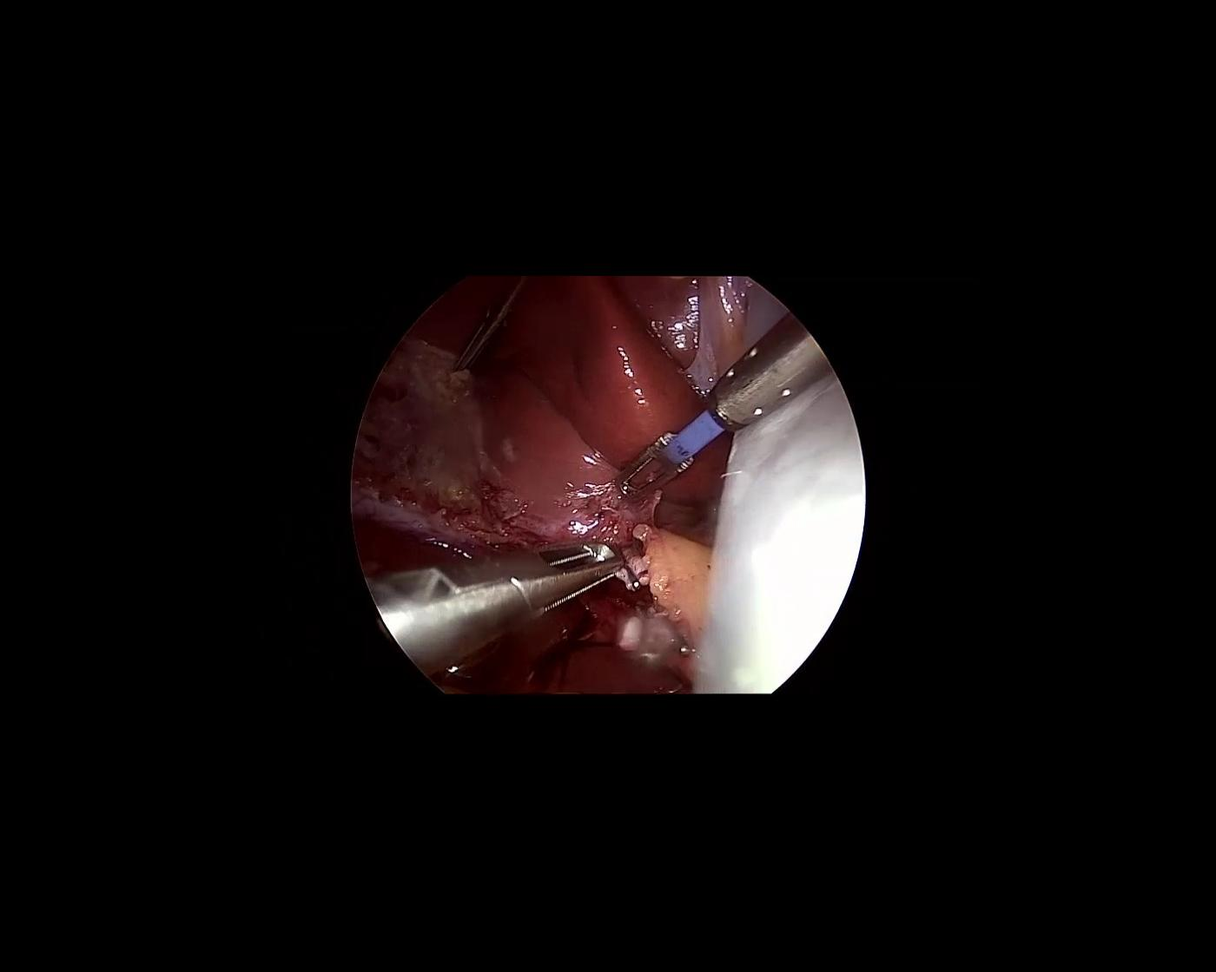Allis: (605, 312, 841, 539)
Forceps: (362, 465, 630, 682), (449, 266, 534, 378)
Liver: (408, 206, 780, 533), (315, 509, 712, 754)
